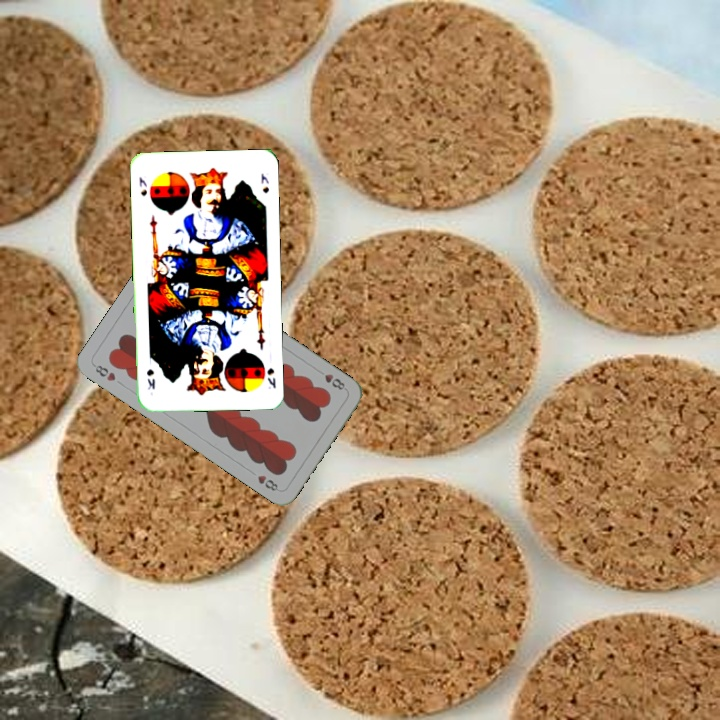H8: (313, 366, 349, 393), (89, 360, 118, 384)
SK: (263, 364, 278, 391), (135, 173, 149, 198)
